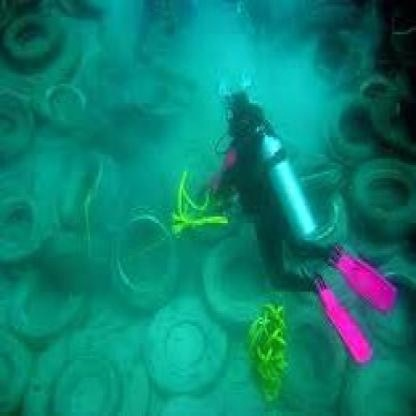net: (238, 307, 284, 398), (164, 176, 231, 234)
tire: (22, 330, 164, 416), (98, 206, 191, 306), (137, 304, 236, 394), (273, 309, 342, 405), (345, 159, 416, 242), (2, 170, 58, 272), (5, 264, 83, 336), (203, 242, 266, 326), (366, 260, 416, 352), (347, 351, 416, 416), (290, 165, 343, 249), (3, 17, 71, 71), (369, 77, 416, 148), (334, 94, 382, 163), (2, 92, 37, 157)
